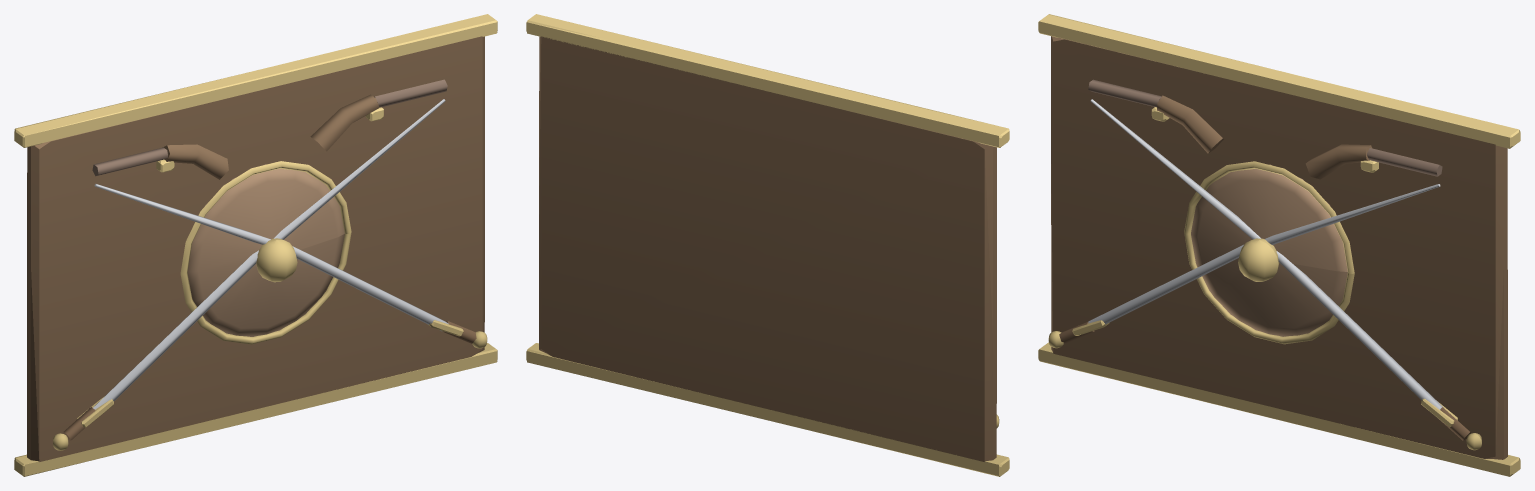
Rendered from kajuete_waffenwand.glb.
3 views of the same model, side by side, from view 1: azimuth 30°, elevation 25°; view 2: azimuth 150°, elevation 25°; view 3: azimuth 330°, elevation 25° (orthographic).
Visible parts, largest first — view 1: G_kajuete_waffenwand; view 2: G_kajuete_waffenwand; view 3: G_kajuete_waffenwand.
Part boxes in pixels (x1,y1,x2,y2): G_kajuete_waffenwand: (14,14,497,476); G_kajuete_waffenwand: (526,14,1009,476); G_kajuete_waffenwand: (1038,14,1520,476).
Size of the model in its own units: 1.36 by 0.935 by 0.18.
